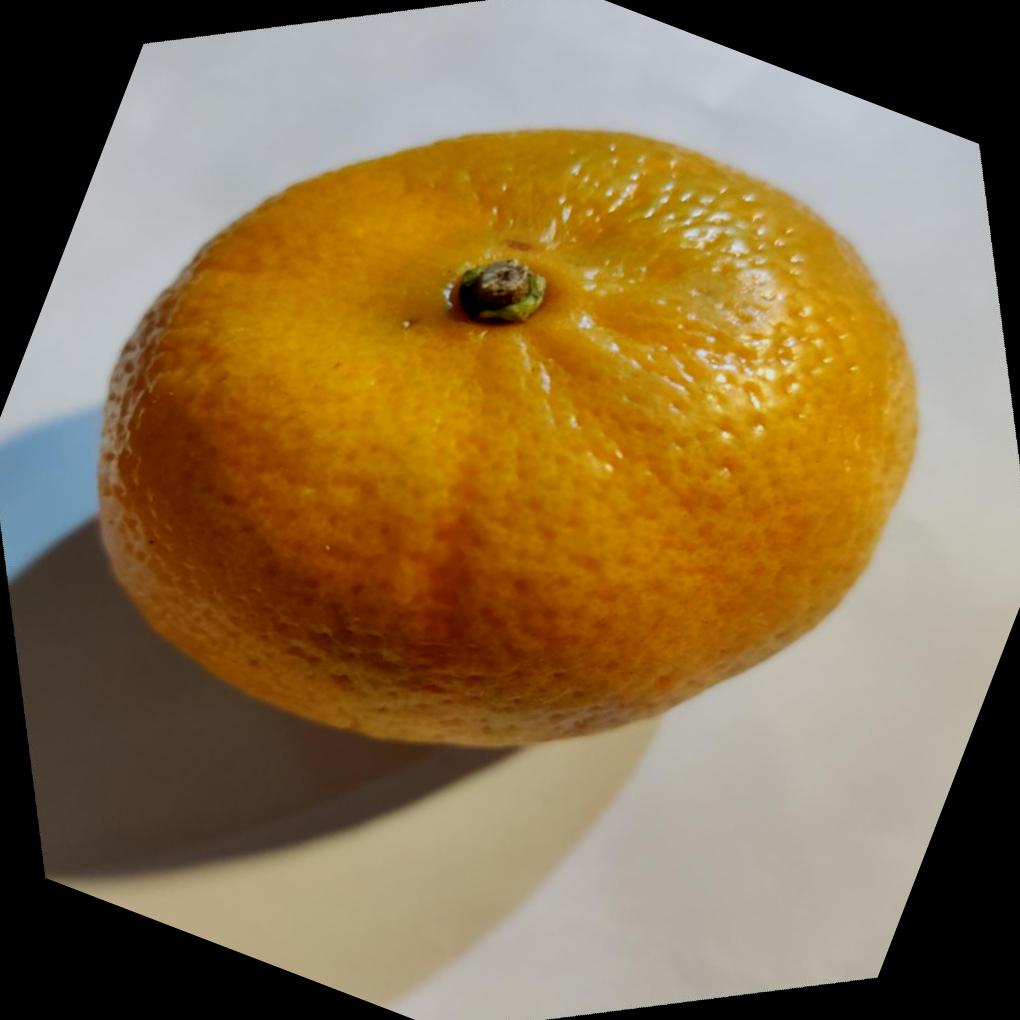FreshGuava: (91, 125, 921, 754)
